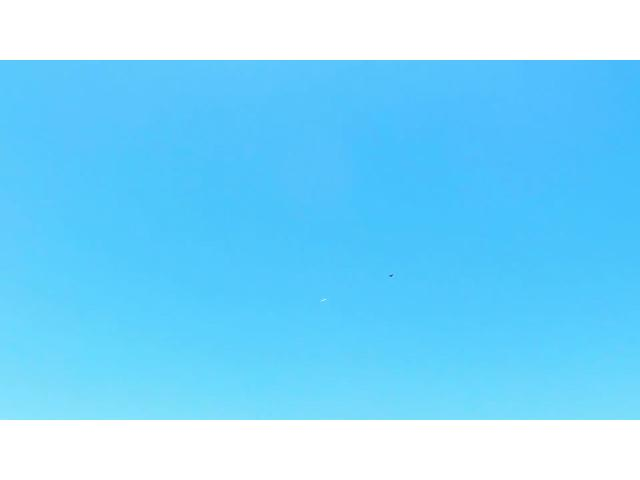Anti-Drone: (306, 293, 342, 311)
